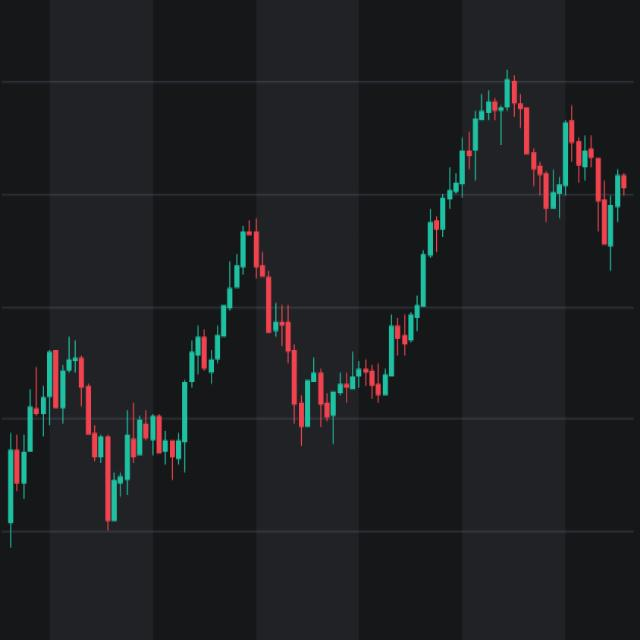Channel-up: (265, 31, 556, 511), (64, 195, 285, 605)
